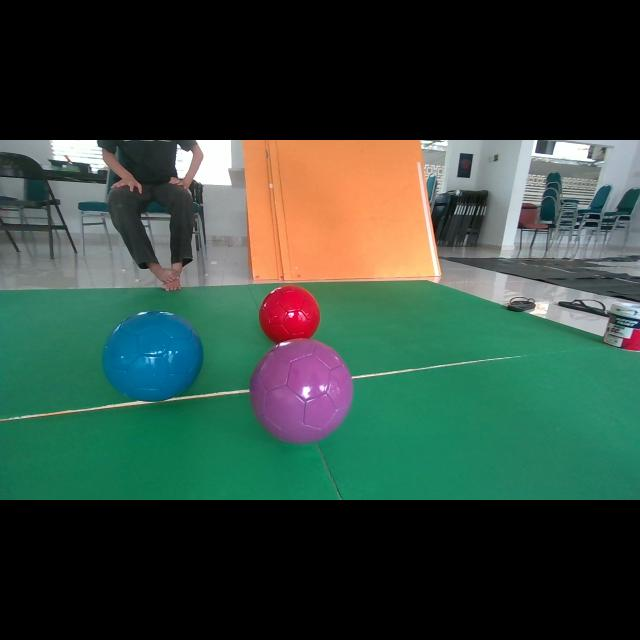B: (102, 310, 204, 401)
P: (251, 340, 352, 443)
R: (259, 285, 320, 342)
